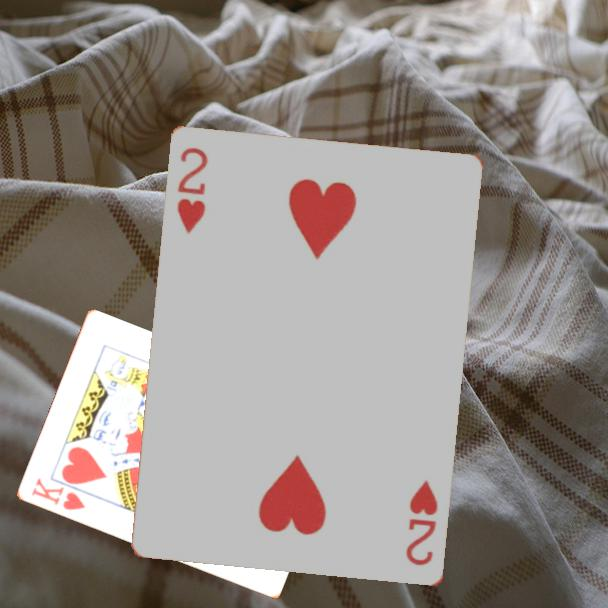h02: (402, 477, 441, 569), (174, 144, 212, 238)
h13: (28, 475, 88, 513)
